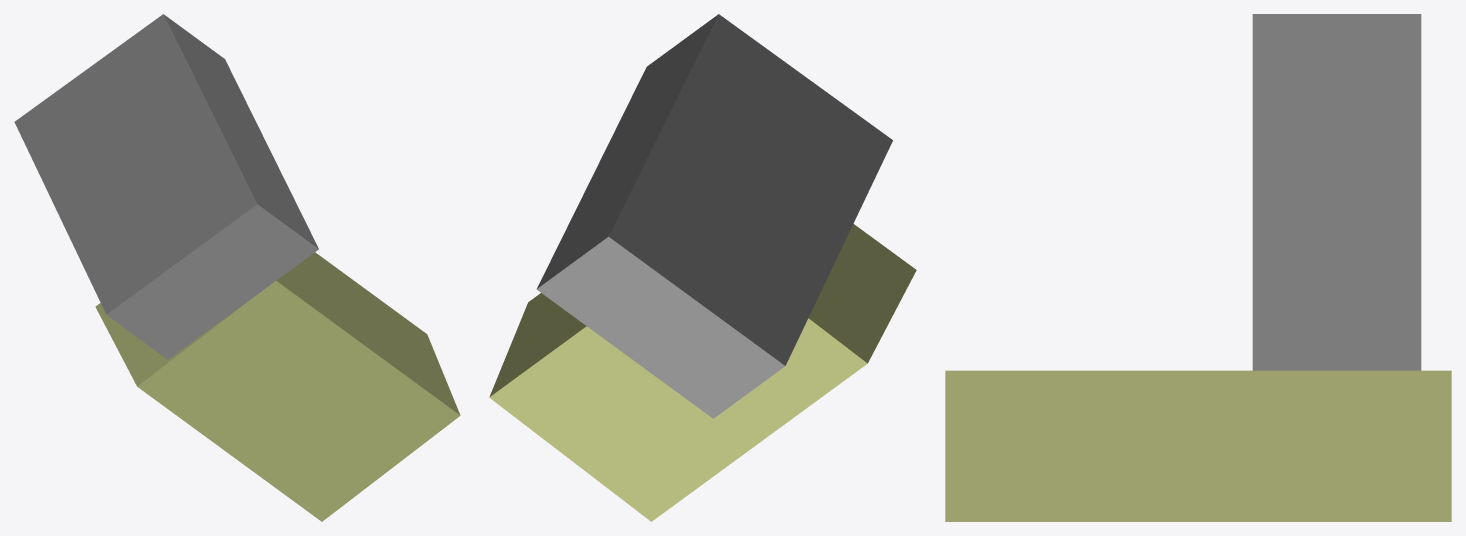
3 renders of one model, left to right at view 1: azimuth 30°, elevation 25°; view 2: azimuth 150°, elevation 25°; view 3: azimuth 270°, elevation 25°, orthographic. The views are drawn at different scales.
Parts seen in each view (by area): view 1: 0_2_2_0_0_0_1_3_3_3_2; view 2: 0_2_2_0_0_0_1_3_3_3_2; view 3: 0_2_2_0_0_0_1_3_3_3_2.
Part boxes in pixels (x1,y1,x2,y2): 0_2_2_0_0_0_1_3_3_3_2: (14, 14, 460, 521); 0_2_2_0_0_0_1_3_3_3_2: (489, 14, 916, 521); 0_2_2_0_0_0_1_3_3_3_2: (945, 14, 1451, 521).
Size of the model in its own units: 7.66 by 10.13 by 9.
